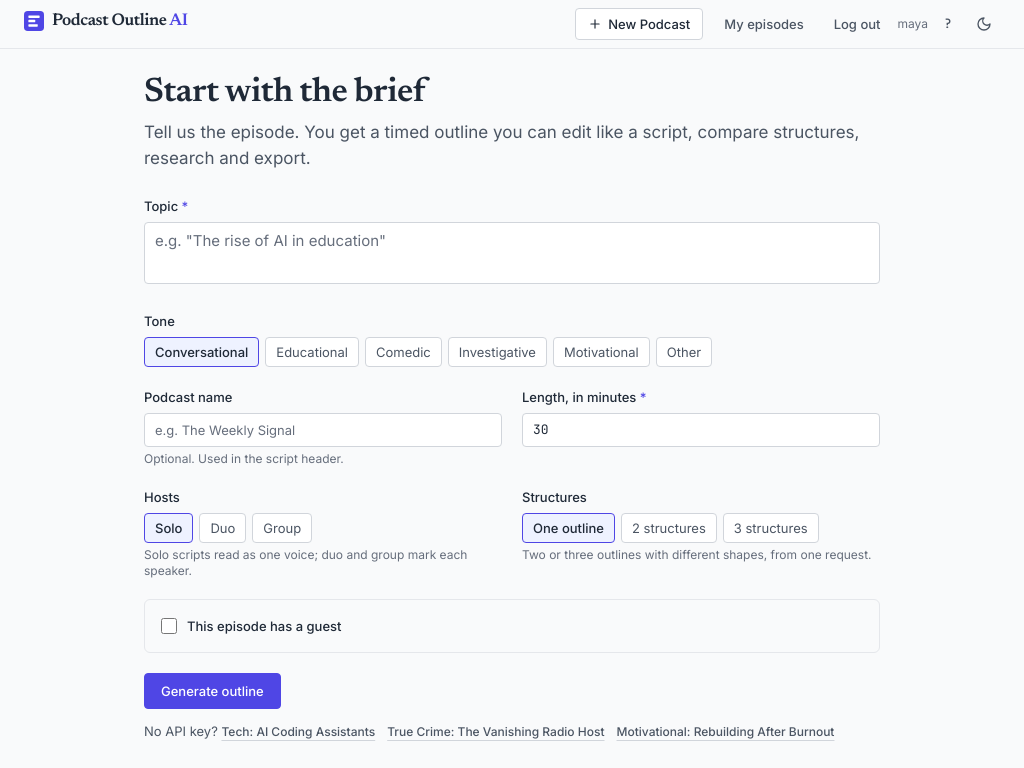
Scenario: + New Podcast: saved projects › the My episodes dialog has its own New Podcast button, and using it leaves the list untouched
Click the button "My episodes": (764, 24) [711, 8, 817, 40]
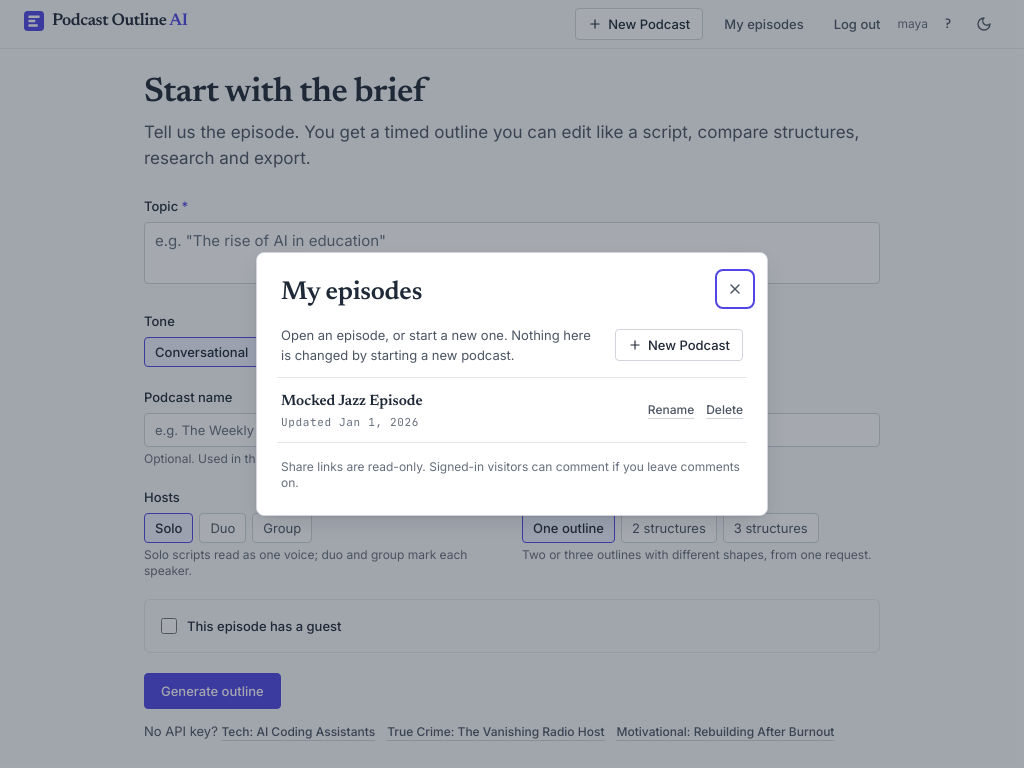
Check: the text "Mocked Jazz Episode" is shown, box [281, 394, 423, 409]
Click the button "New Podcast": (679, 345) [615, 329, 743, 361]
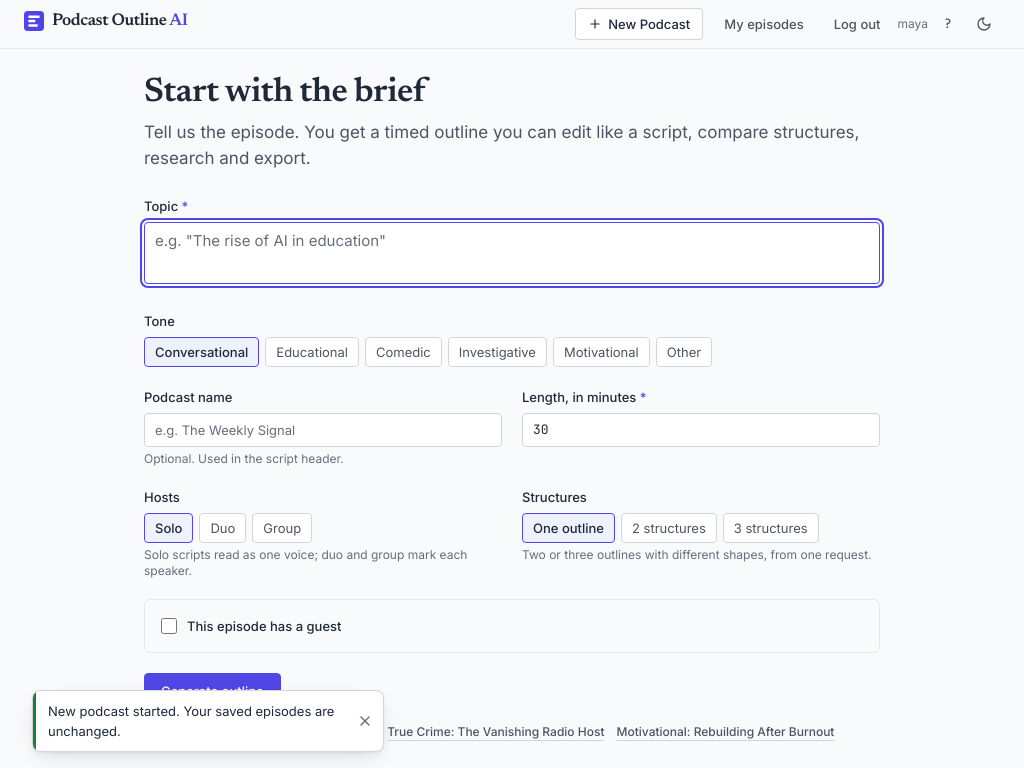
Check: the dialog is gone
